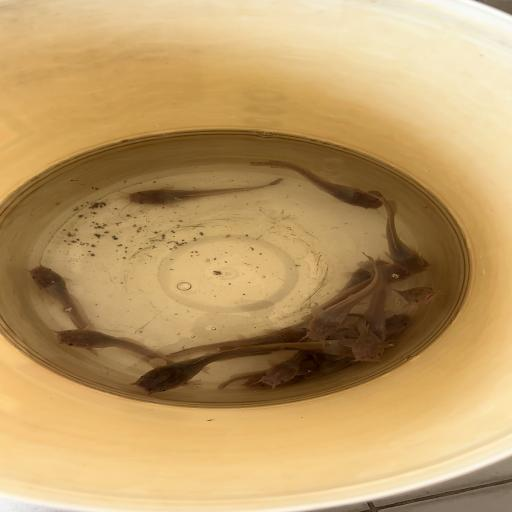lele: (300, 257, 430, 320), (133, 343, 286, 395), (245, 158, 384, 211), (27, 266, 103, 356), (310, 254, 380, 341), (367, 188, 431, 274), (121, 177, 287, 206), (52, 328, 178, 366), (170, 325, 310, 359), (226, 338, 368, 360), (212, 362, 282, 392), (334, 259, 396, 291), (264, 350, 312, 388), (362, 286, 395, 340), (352, 316, 383, 364), (392, 286, 440, 305), (384, 312, 413, 334), (240, 376, 270, 392)
